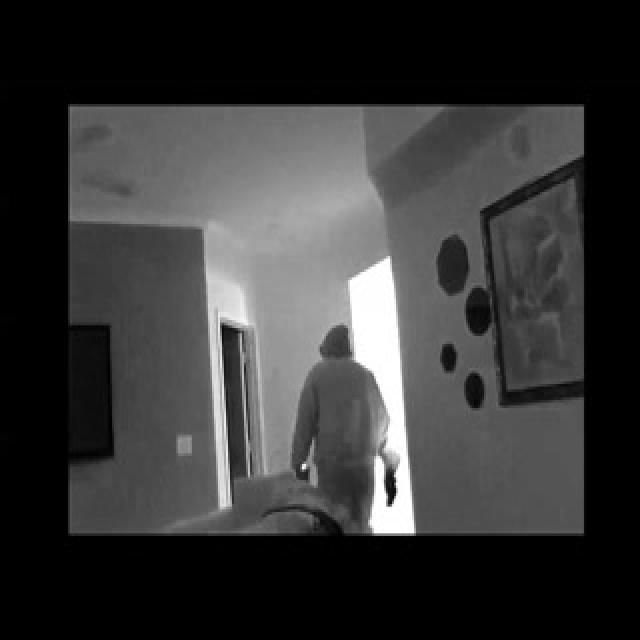thief: (302, 315, 369, 405)
